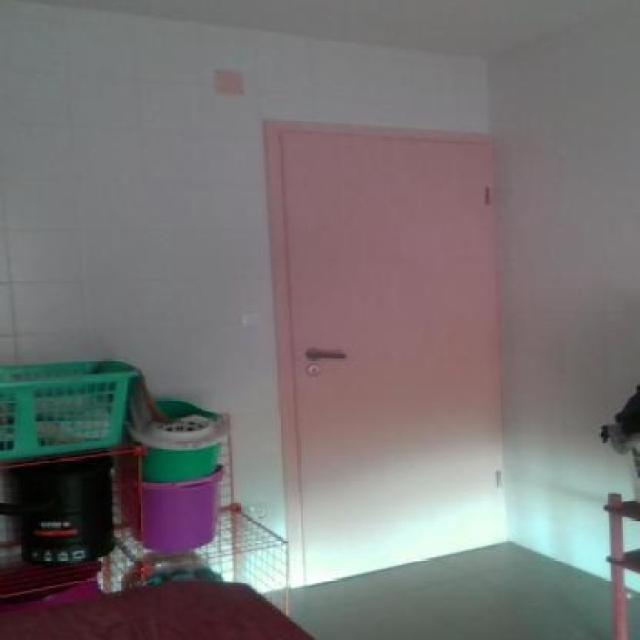door_handle: (299, 344, 356, 368)
